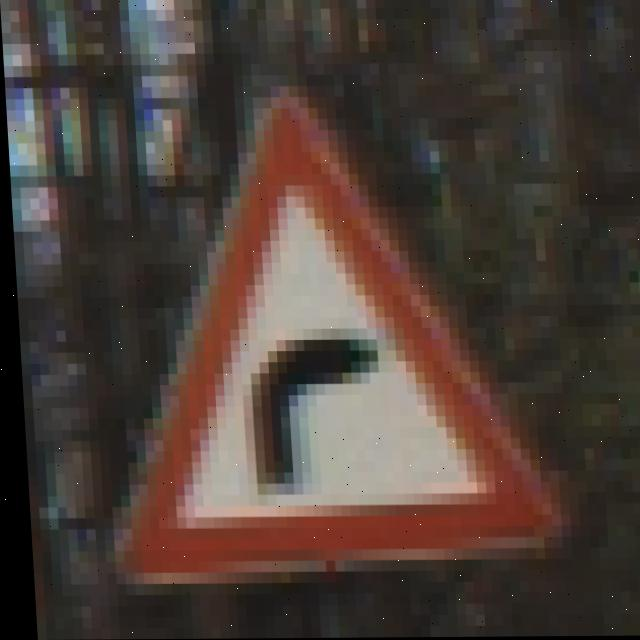right_turn: (86, 115, 564, 551)
